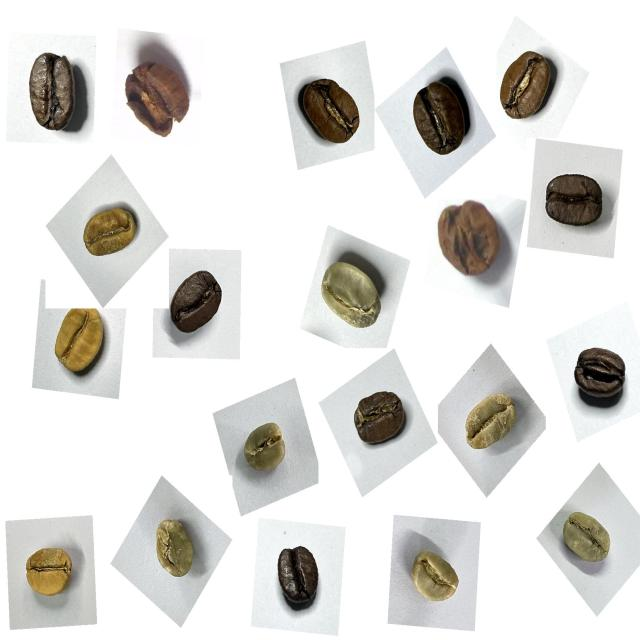bad: (115, 31, 200, 148), (426, 191, 510, 285)
dark: (21, 41, 88, 138), (164, 262, 236, 351), (538, 162, 614, 245), (563, 336, 634, 422), (266, 532, 333, 616)
green: (310, 247, 394, 346), (453, 382, 529, 467), (400, 539, 469, 617), (142, 510, 206, 592), (555, 502, 623, 578), (236, 413, 298, 488)
light: (43, 304, 115, 392), (12, 536, 82, 614), (77, 196, 143, 264)
medium: (403, 73, 480, 169), (291, 68, 370, 160), (489, 44, 562, 132), (345, 380, 414, 457)
